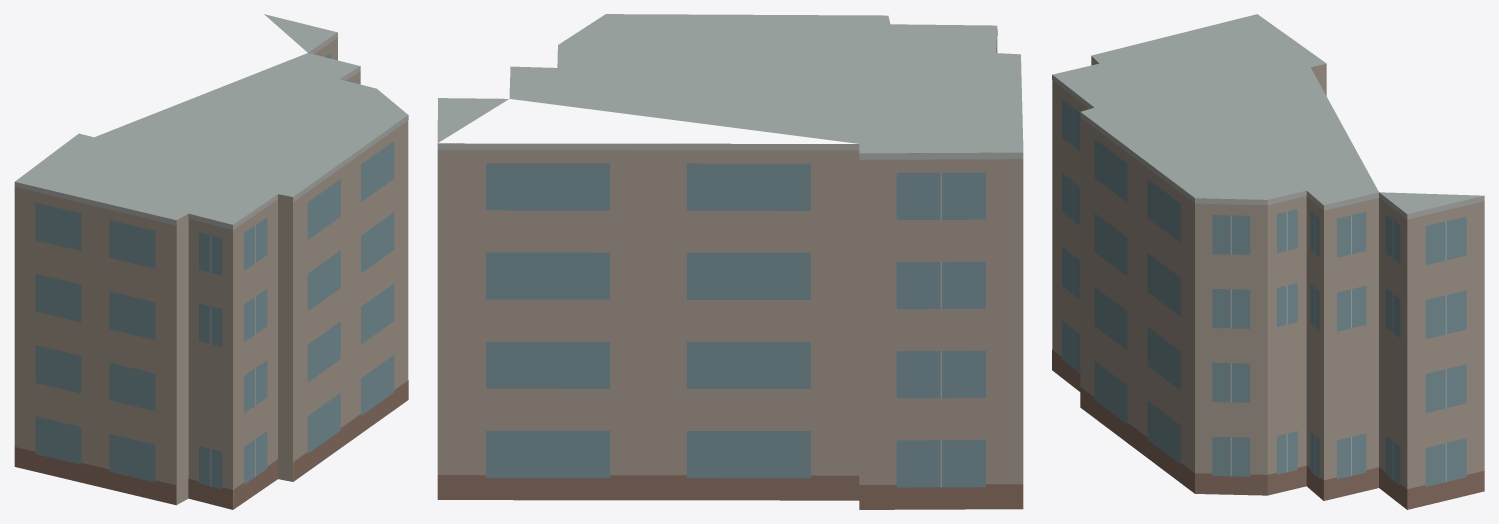
Rendered from survey-upis-32495967.glb.
3 views of the same model, side by side, from view 1: azimuth 30°, elevation 25°; view 2: azimuth 150°, elevation 25°; view 3: azimuth 270°, elevation 25° (orthographic). The views are drawn at different scales.
Visible parts, largest first — view 1: survey-upis-32495967.tmp; view 2: survey-upis-32495967.tmp; view 3: survey-upis-32495967.tmp.
Boxes of the visible parts, x1,y1,x2,y2 form: survey-upis-32495967.tmp: (14,14,408,509); survey-upis-32495967.tmp: (437,14,1023,509); survey-upis-32495967.tmp: (1052,14,1484,509).
Bounding box in the file's own units: 19.48 × 13.4 × 17.78.
